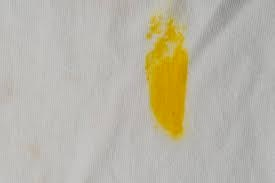mustard: (139, 18, 194, 136)
